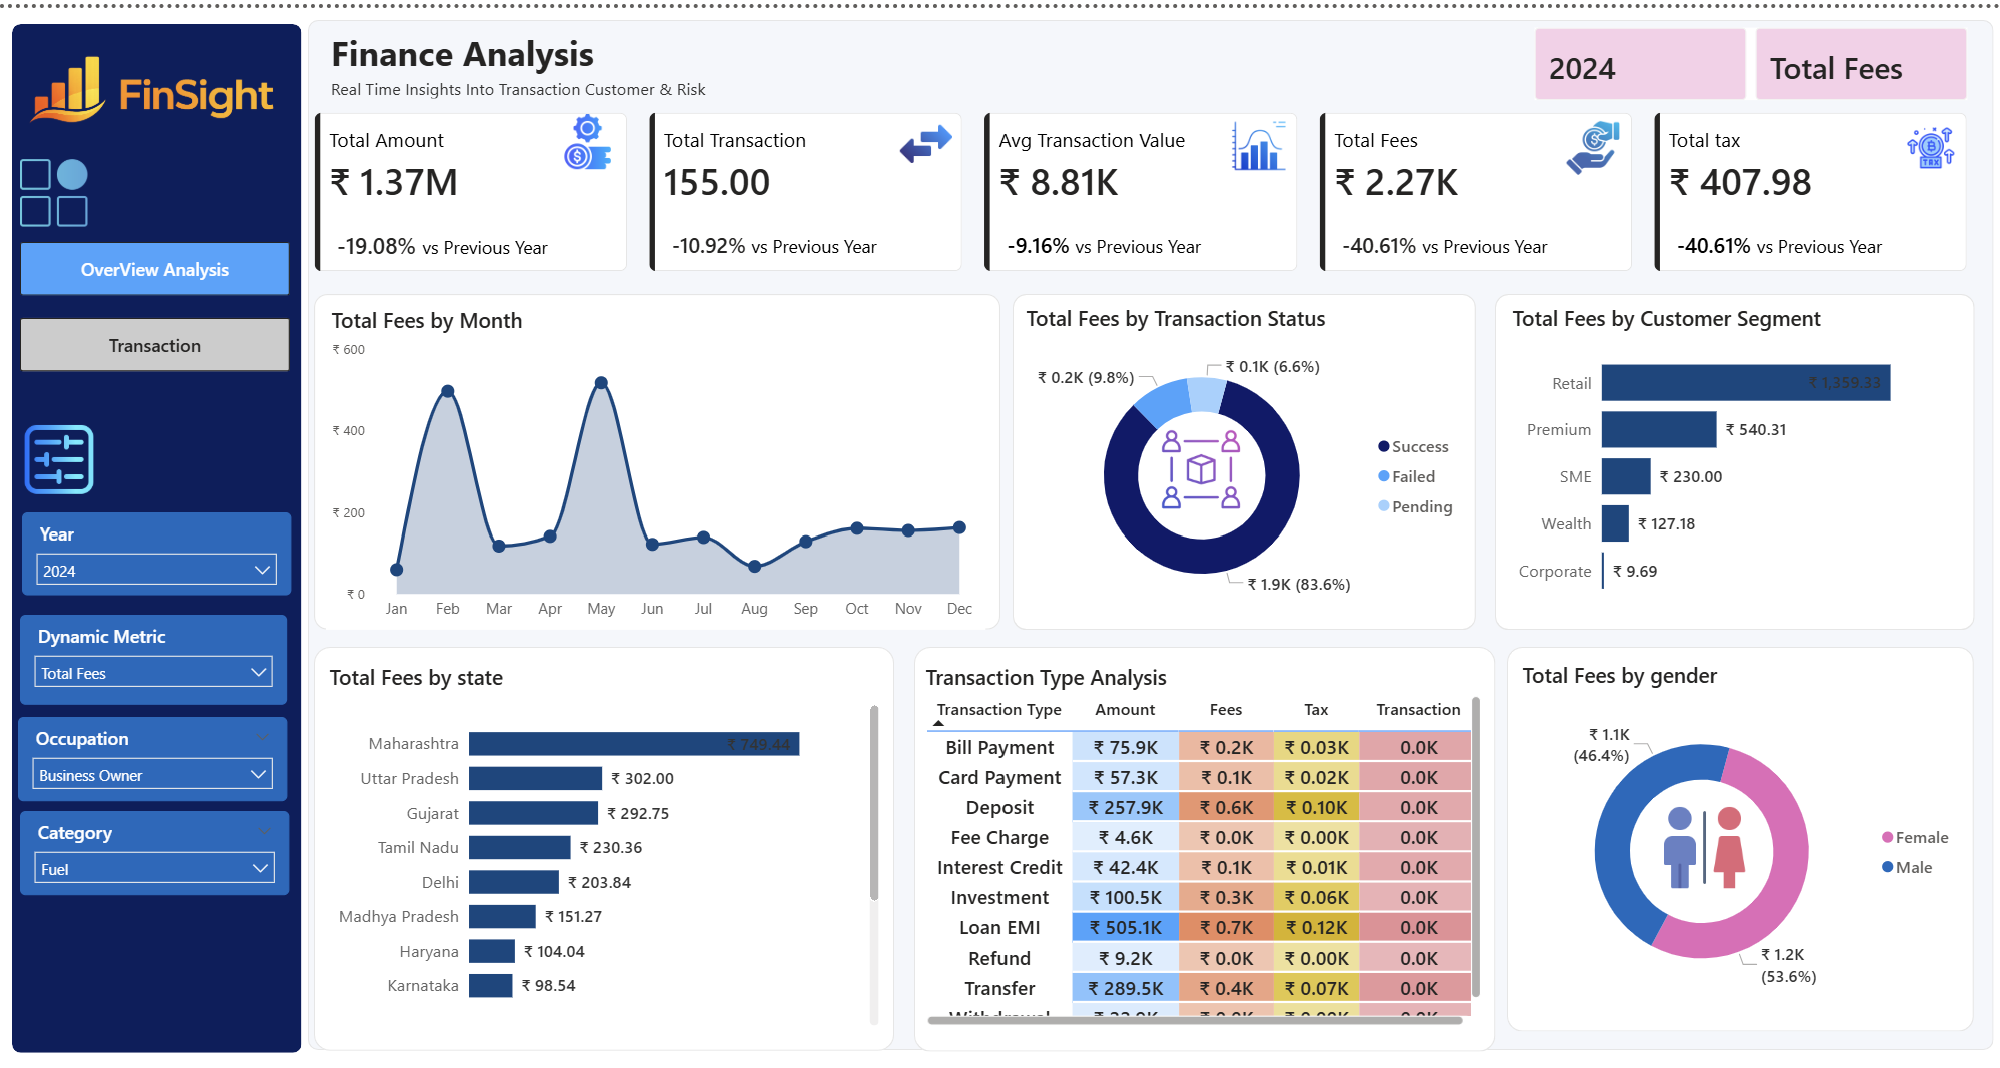

The page's visual inventory and layout, read from the dashboard file:
{"tool":"powerbi","page":{"name":"OverView Analysis","canvas":[1800,950],"ordinal":0},"visuals":[{"type":"shape","box":[13.6,13.6,259.6,921.4],"z":0},{"type":"shape","box":[279,11.5,1510,922.4],"z":1000},{"type":"image","box":[21.3,24.6,241.3,96.8],"z":2000},{"type":"cardVisual","fields":{"Data":["finance_transactions.Dashboard Title"]},"box":[284,13.1,382.4,75.5],"z":3000},{"type":"cardVisual","fields":{"Data":["finance_transactions.Total Amount","finance_transactions.Total Transaction","finance_transactions.Avg Transaction Value","finance_transactions.Total Fees","finance_transactions.Total tax"]},"box":[279.3,88.6,1493.8,155],"z":4000},{"type":"slicer","fields":{"Values":["Calender Table.Year"]},"box":[23,451.4,241.3,73.9],"z":5000},{"type":"image","box":[505.9,95.4,49.4,49.4],"z":6000},{"type":"image","box":[809,97.1,50,50],"z":7000},{"type":"image","box":[1105.4,98.8,50,50],"z":8000},{"type":"image","box":[1405.2,100.5,50,50],"z":9000},{"type":"image","box":[1708.4,100.5,50,50],"z":10000},{"type":"slicer","fields":{"Values":["Dynamic Metric.Dynamic Metric"]},"box":[21.3,543.3,239.6,80.4],"z":11000},{"type":"shape","box":[284.4,257.2,615,300],"z":12000},{"type":"areaChart","fields":{"Y":["finance_transactions.Total Fees"],"Category":["Calender Table.Month"]},"box":[296.4,267.4,591,289.6],"z":13000},{"type":"cardVisual","fields":{"Data":["finance_transactions.Selected Year","finance_transactions.Selected Dynamic Measure"]},"box":[1373.8,13.1,398.8,75.5],"z":14000},{"type":"shape","box":[910.9,256,415,300.4],"z":15000},{"type":"donutChart","fields":{"Y":["finance_transactions.Total Fees"],"Category":["finance_transactions.transaction_status"]},"box":[917.5,265.9,402.1,282.3],"z":16000},{"type":"shape","box":[1342.6,256,430,300.4],"z":17000},{"type":"barChart","fields":{"Y":["finance_transactions.Total Fees"],"Category":["customers.customer_segment"]},"box":[1354.1,265.9,410.3,277.4],"z":18000},{"type":"shape","box":[285.6,571.2,520,362],"z":19000},{"type":"barChart","fields":{"Y":["finance_transactions.Total Fees"],"Category":["customers.state"]},"box":[293.8,586,502.2,329.9],"z":20000},{"type":"shape","box":[822.3,571.2,520.3,362.7],"z":21000},{"type":"tableEx","title":"Transaction Type Analysis","fields":{"Values":["finance_transactions.transaction_type","finance_transactions.Total Amount","finance_transactions.Total Fees","finance_transactions.Total tax","finance_transactions.Total Transaction"]},"box":[828.9,586,507.2,329.9],"z":22000},{"type":"shape","box":[1354.1,571.2,418.5,344.7],"z":23000},{"type":"donutChart","fields":{"Y":["finance_transactions.Total Fees"],"Category":["customers.gender"]},"box":[1362.3,584.3,402.1,316.8],"z":24000},{"type":"image","box":[1042.2,374.2,75.5,77.1],"z":25000},{"type":"image","box":[1488.7,710.7,85.3,83.7],"z":26000},{"type":"slicer","fields":{"Values":["customers.occupation"]},"box":[19.7,635.2,241.3,75.5],"z":27000},{"type":"slicer","fields":{"Values":["finance_transactions.merchant_category"]},"box":[21.3,718.9,241.3,75.5],"z":28000},{"type":"pageNavigator","box":[21.3,210.1,242.9,116.5],"z":29000},{"type":"image","box":[21.3,134.6,60.7,62.4],"z":30000},{"type":"image","box":[19.7,369.3,73.9,70.6],"z":31000}]}

Visuals, with their boxes in screenshot pixels (x1, y1, x2, y2), scaled from the page's 1800x950 canvas onto the 2000x1068 screenshot:
shape: x1=15, y1=15, x2=304, y2=1051
shape: x1=310, y1=13, x2=1988, y2=1050
image: x1=24, y1=28, x2=292, y2=136
cardVisual - finance_transactions.Dashboard Title: x1=316, y1=15, x2=740, y2=100
cardVisual - finance_transactions.Total Amount x finance_transactions.Total Transaction: x1=310, y1=100, x2=1970, y2=274
slicer - Calender Table.Year: x1=26, y1=507, x2=294, y2=591
image: x1=562, y1=107, x2=617, y2=163
image: x1=899, y1=109, x2=954, y2=165
image: x1=1228, y1=111, x2=1284, y2=167
image: x1=1561, y1=113, x2=1617, y2=169
image: x1=1898, y1=113, x2=1954, y2=169
slicer - Dynamic Metric.Dynamic Metric: x1=24, y1=611, x2=290, y2=701
shape: x1=316, y1=289, x2=999, y2=626
areaChart - finance_transactions.Total Fees x Calender Table.Month: x1=329, y1=301, x2=986, y2=626
cardVisual - finance_transactions.Selected Year x finance_transactions.Selected Dynamic Measure: x1=1526, y1=15, x2=1970, y2=100
shape: x1=1012, y1=288, x2=1473, y2=626
donutChart - finance_transactions.Total Fees x finance_transactions.transaction_status: x1=1019, y1=299, x2=1466, y2=616
shape: x1=1492, y1=288, x2=1970, y2=626
barChart - finance_transactions.Total Fees x customers.customer_segment: x1=1505, y1=299, x2=1960, y2=611
shape: x1=317, y1=642, x2=895, y2=1049
barChart - finance_transactions.Total Fees x customers.state: x1=326, y1=659, x2=884, y2=1030
shape: x1=914, y1=642, x2=1492, y2=1050
"Transaction Type Analysis" tableEx: x1=921, y1=659, x2=1485, y2=1030
shape: x1=1505, y1=642, x2=1970, y2=1030
donutChart - finance_transactions.Total Fees x customers.gender: x1=1514, y1=657, x2=1960, y2=1013
image: x1=1158, y1=421, x2=1242, y2=507
image: x1=1654, y1=799, x2=1749, y2=893
slicer - customers.occupation: x1=22, y1=714, x2=290, y2=799
slicer - finance_transactions.merchant_category: x1=24, y1=808, x2=292, y2=893
pageNavigator: x1=24, y1=236, x2=294, y2=367
image: x1=24, y1=151, x2=91, y2=221
image: x1=22, y1=415, x2=104, y2=495
